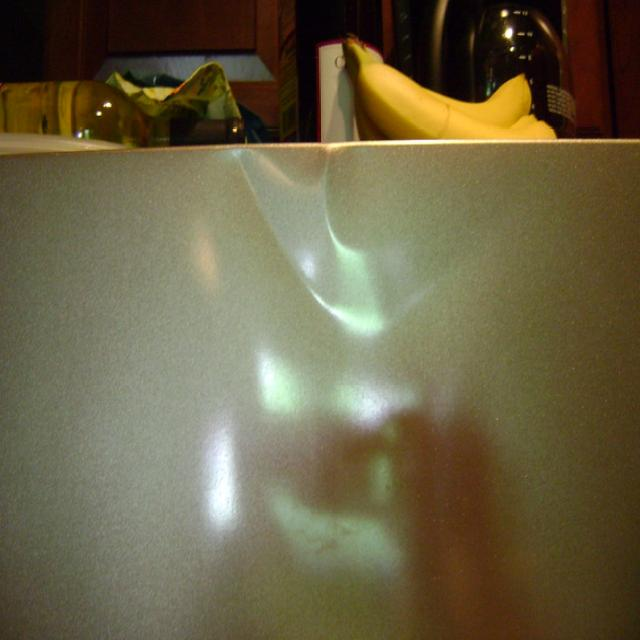dents: (208, 151, 504, 334)
